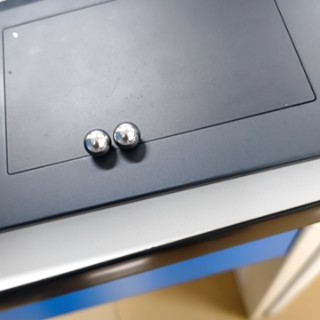ironball: (108, 110, 153, 153), (80, 124, 111, 162)
